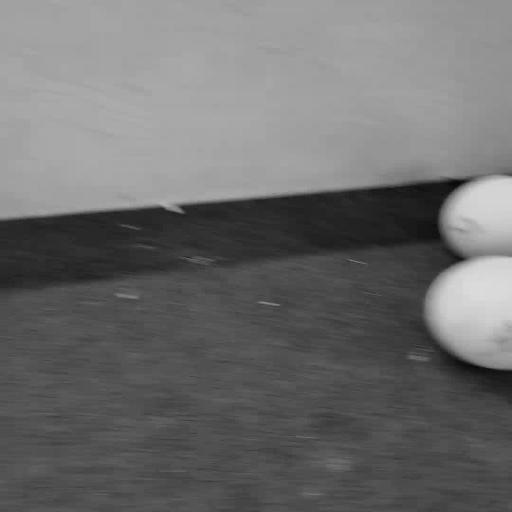fuel: (424, 256, 511, 370), (439, 176, 511, 258)
